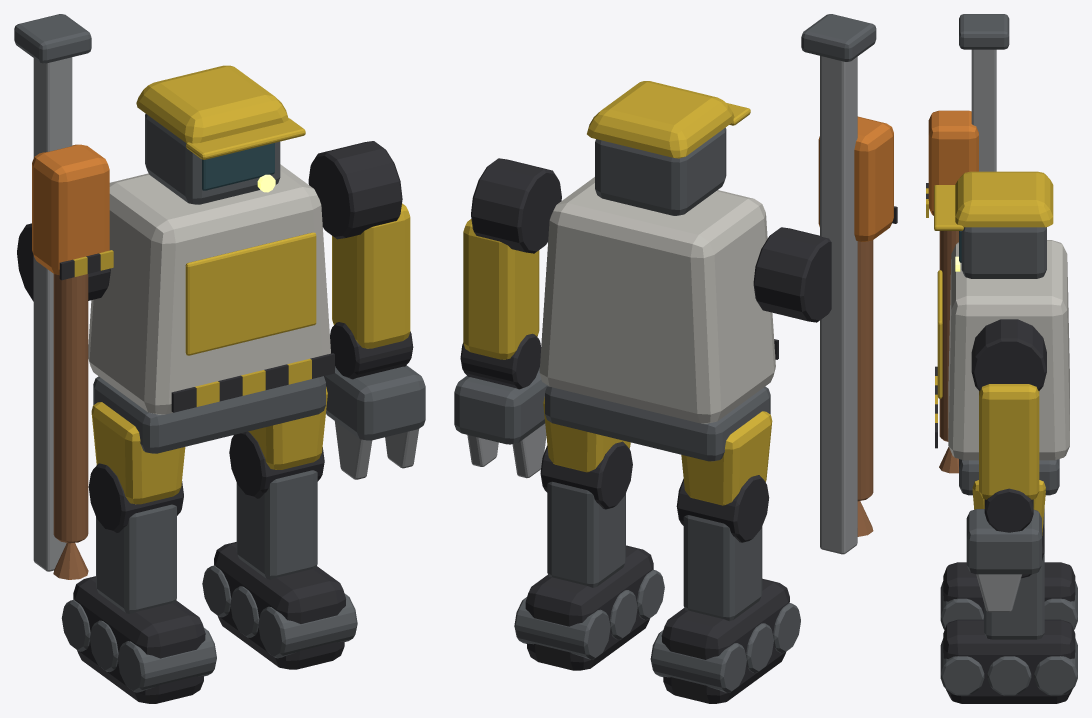
The model's file is bate_estaca.glb.
3 views of the same model, side by side, from view 1: azimuth 30°, elevation 25°; view 2: azimuth 150°, elevation 25°; view 3: azimuth 270°, elevation 25° (orthographic). The views are drawn at different scales.
Parts seen in each view (by area): view 1: bate_estaca_16, bate_estaca_17, bate_estaca_37, bate_estaca_44, bate_estaca_31, bate_estaca_39, bate_estaca_15, bate_estaca_27, bate_estaca_12, bate_estaca_05, bate_estaca_30, bate_estaca_08 (+21 smaller); view 2: bate_estaca_16, bate_estaca_37, bate_estaca_31, bate_estaca_15, bate_estaca_25, bate_estaca_27, bate_estaca_05, bate_estaca_12, bate_estaca_30, bate_estaca_01, bate_estaca_08, bate_estaca_36 (+17 smaller); view 3: bate_estaca_16, bate_estaca_31, bate_estaca_08, bate_estaca_27, bate_estaca_30, bate_estaca_25, bate_estaca_33, bate_estaca_39, bate_estaca_37, bate_estaca_12, bate_estaca_01, bate_estaca_44 (+13 smaller).
Part boxes in pixels (x1,y1,x2,y2): bate_estaca_16: (88,164,330,414); bate_estaca_17: (185,232,316,355); bate_estaca_37: (33,57,72,571); bate_estaca_44: (53,274,88,543); bate_estaca_31: (332,203,410,348); bate_estaca_39: (32,144,109,274); bate_estaca_15: (93,376,325,453); bate_estaca_27: (136,65,288,143); bate_estaca_12: (236,470,317,579); bate_estaca_05: (96,504,176,613); bate_estaca_30: (308,141,402,239); bate_estaca_08: (214,542,345,669); bate_estaca_16: (539,177,775,423); bate_estaca_37: (820,56,857,554); bate_estaca_31: (463,219,539,359); bate_estaca_15: (545,385,770,461); bate_estaca_25: (595,127,726,215); bate_estaca_27: (587,81,734,158); bate_estaca_05: (683,515,762,621); bate_estaca_12: (547,481,625,587); bate_estaca_30: (471,158,561,253); bate_estaca_01: (661,578,789,703); bate_estaca_08: (525,545,653,670); bate_estaca_36: (753,227,831,322); bate_estaca_16: (948,240,1069,460); bate_estaca_31: (979,384,1039,499); bate_estaca_08: (943,619,1075,703); bate_estaca_27: (955,171,1053,227); bate_estaca_30: (971,319,1046,390); bate_estaca_25: (961,227,1046,278); bate_estaca_33: (966,509,1041,574); bate_estaca_39: (928,110,978,215); bate_estaca_37: (971,49,996,171); bate_estaca_12: (984,553,1044,639); bate_estaca_01: (943,562,1075,614); bate_estaca_44: (939,231,958,441).
Size of the model in its own units: 1.52 by 2.52 by 0.6039.
